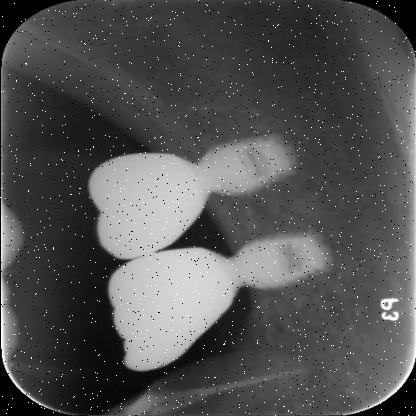Bicon: (183, 134, 288, 202), (224, 235, 330, 293)
